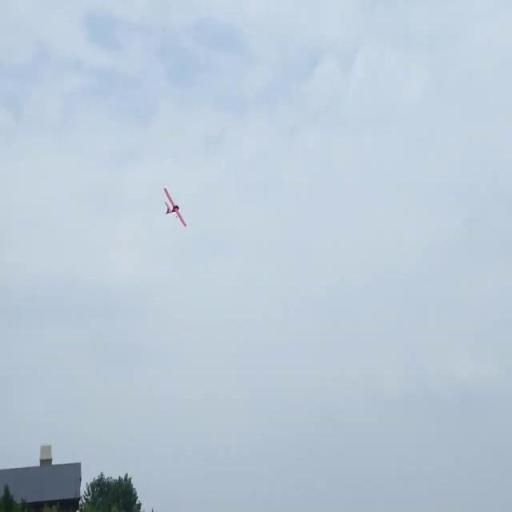uav: (164, 188, 186, 226)
